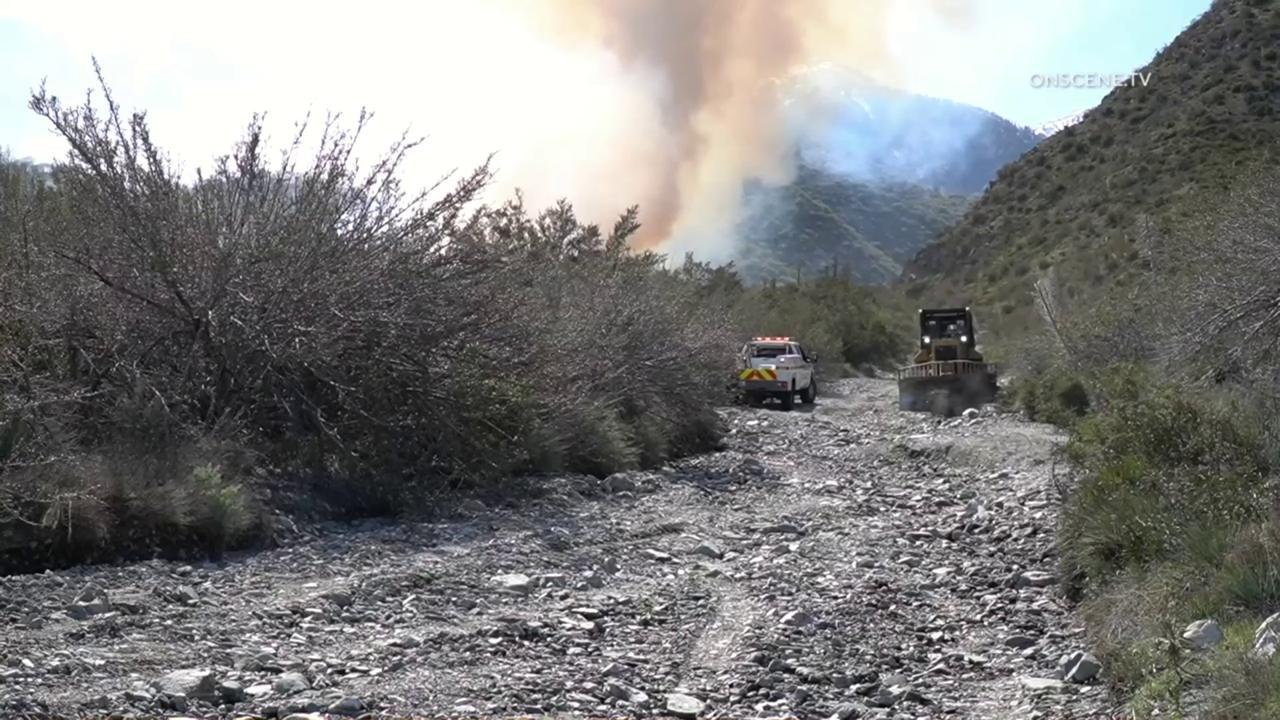smoke: (0, 0, 990, 288)
